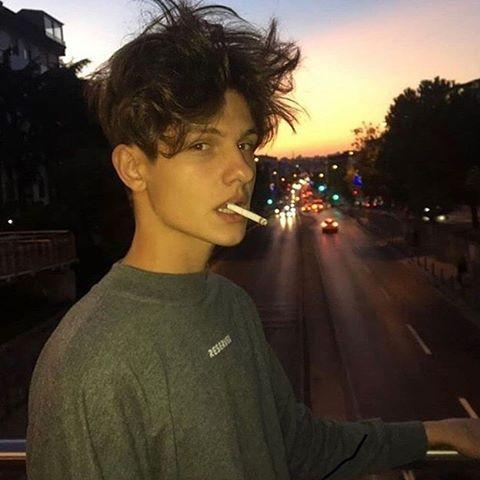cigarette: (227, 202, 268, 226)
